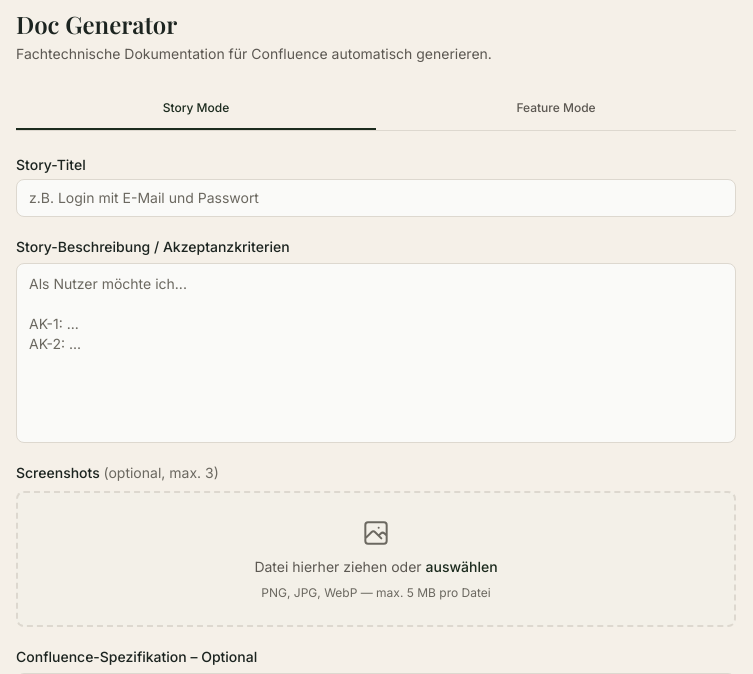
DocGeneratorPage — Mode-Wechsel › wechselt ohne Dialog wenn keine Eingabe
Click the tab "Feature Mode".
click(556, 109)  # box x1=376 y1=88 x2=736 y2=130
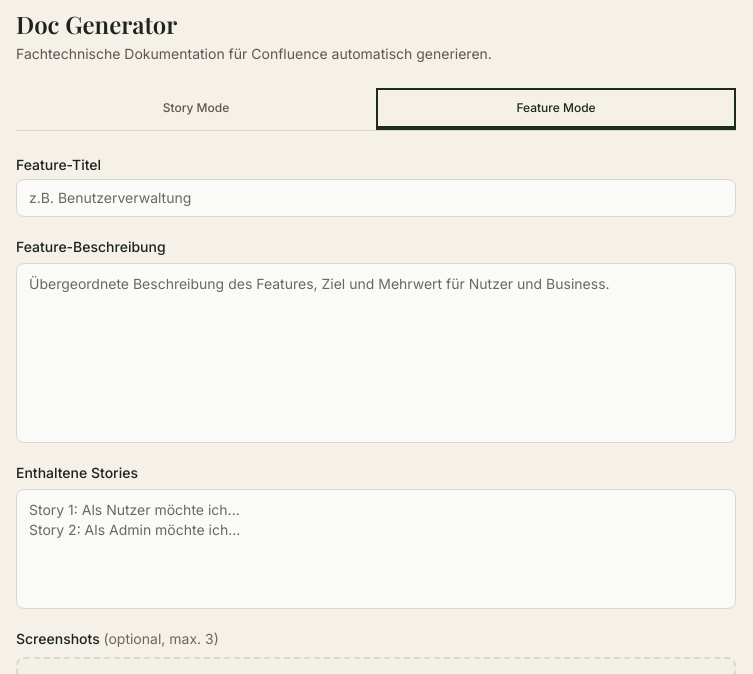
Expected: the text box labelled "Enthaltene Stories" is shown, x1=16 y1=489 x2=736 y2=609
